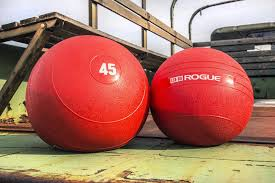red ball: (26, 35, 149, 153), (151, 47, 255, 148)
